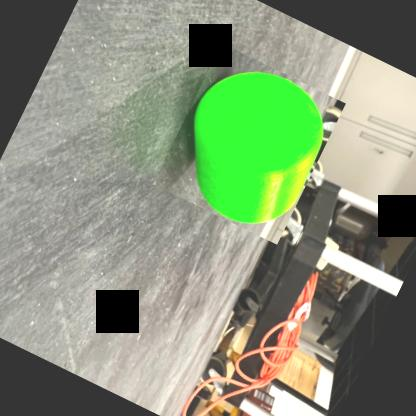green cylinder: (153, 44, 346, 245)
